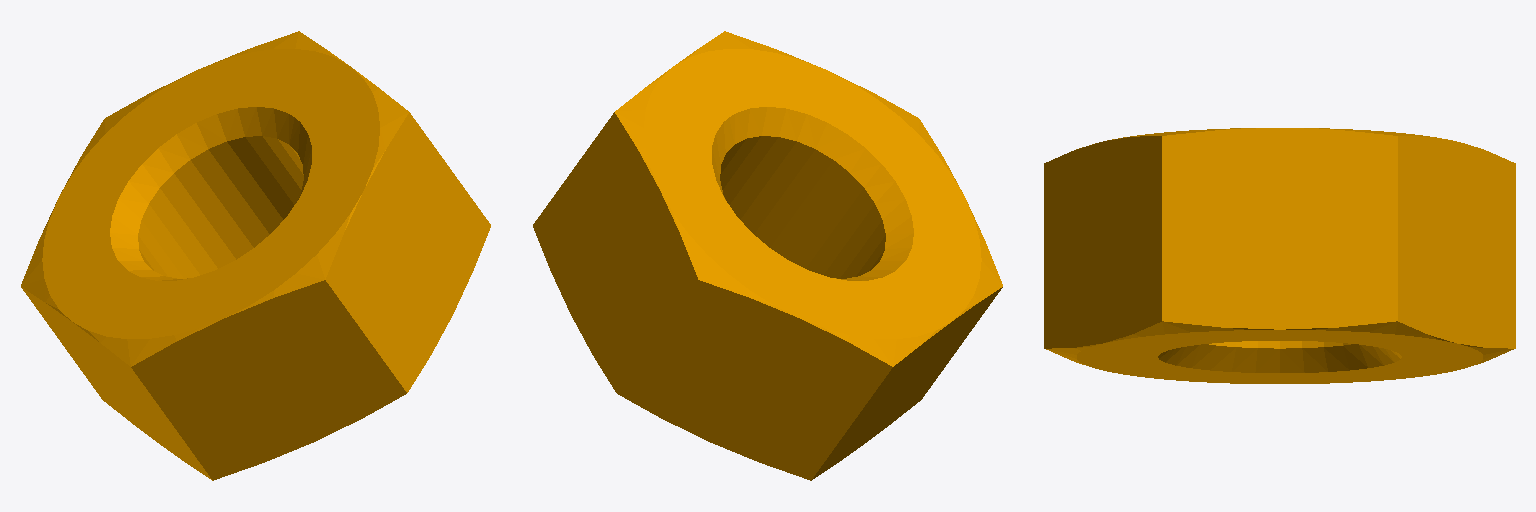
robot.urdf — Hexagonal_head_nuts_m6:
<?xml version="1.0"?>
<robot name="Hexagonal_head_nuts_m6">
    <link name="Hexagonal_head_nuts_m6">
        <visual>
            <!-- <origin xyz="0 0 0.5" rpy="0 0 0"/> -->
            <origin xyz='0 0 0' rpy='0 1 0' />
            <geometry>
                <mesh filename="../mesh/factory_nut_bolt/Hexagonal_head_nuts_m6.obj" scale="0.001 0.001 0.001"/>
            </geometry>
        </visual>
        <collision>
            <geometry>
                <mesh filename="../mesh/factory_nut_bolt/Hexagonal_head_nuts_m6.obj" scale="0.001 0.001 0.001"/>
            </geometry>
            <sdf resolution="512"/>
        </collision>
    </link>
</robot>

--- Facts derived from the render (not from the file) ---
Views: 3 orthographic renders of the robot side by side, from view 1: azimuth 30°, elevation 25°; view 2: azimuth 150°, elevation 25°; view 3: azimuth 270°, elevation 25°.
Model Hexagonal_head_nuts_m6 with 1 links and 0 joints (none), rooted at Hexagonal_head_nuts_m6, posed all joints at 0.
Visible links, largest first — view 1: Hexagonal_head_nuts_m6; view 2: Hexagonal_head_nuts_m6; view 3: Hexagonal_head_nuts_m6.
Boxes of the visible links, box(x1,y1,x2,y2) form: Hexagonal_head_nuts_m6: box(21, 31, 490, 480); Hexagonal_head_nuts_m6: box(533, 31, 1002, 480); Hexagonal_head_nuts_m6: box(1044, 128, 1515, 383).
Bounding box of the posed robot: 0.0111 × 0.0115 × 0.0096 m (x, y, z).
1 mesh visuals loaded from 1 distinct referenced files (1 OBJ).